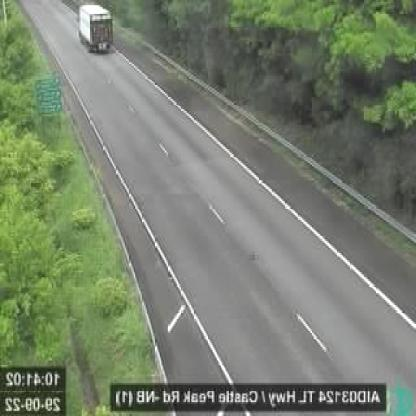Truck: (72, 0, 120, 55)
